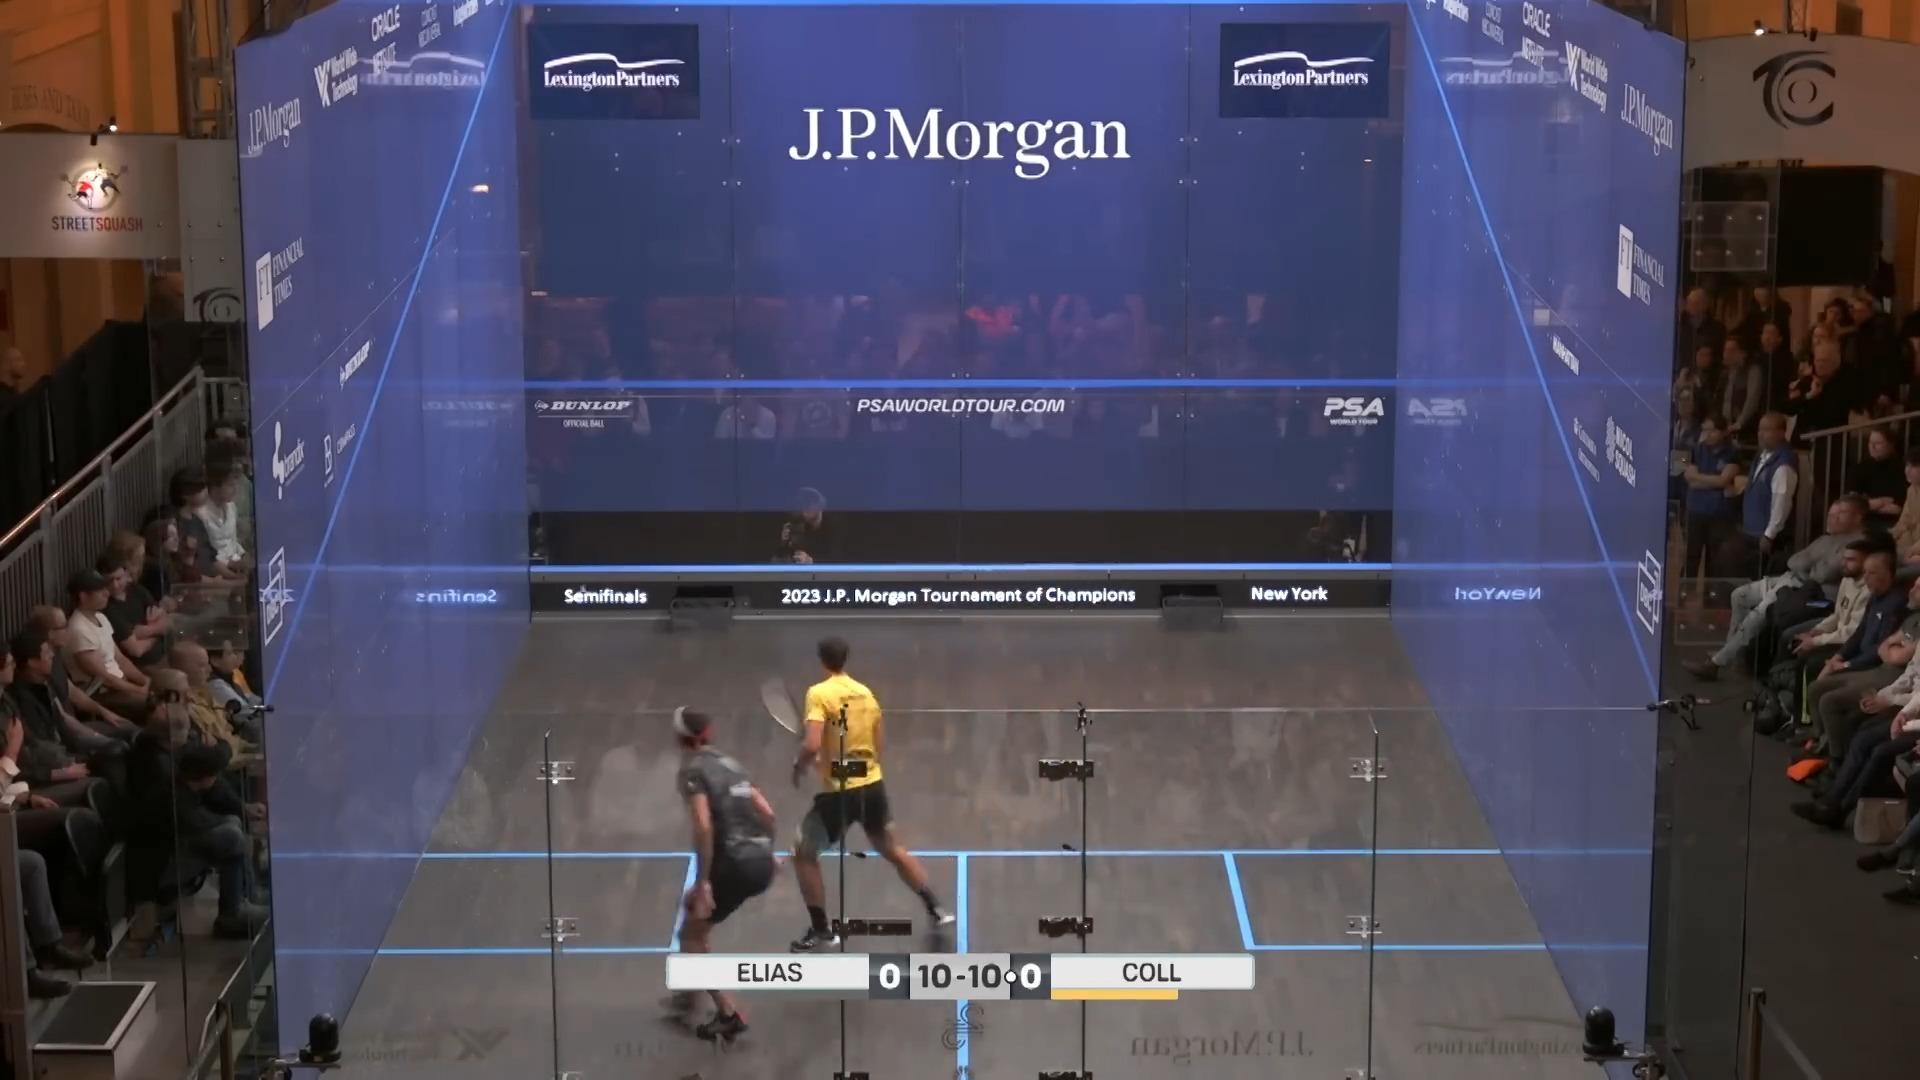Racket: (748, 657, 800, 731)
